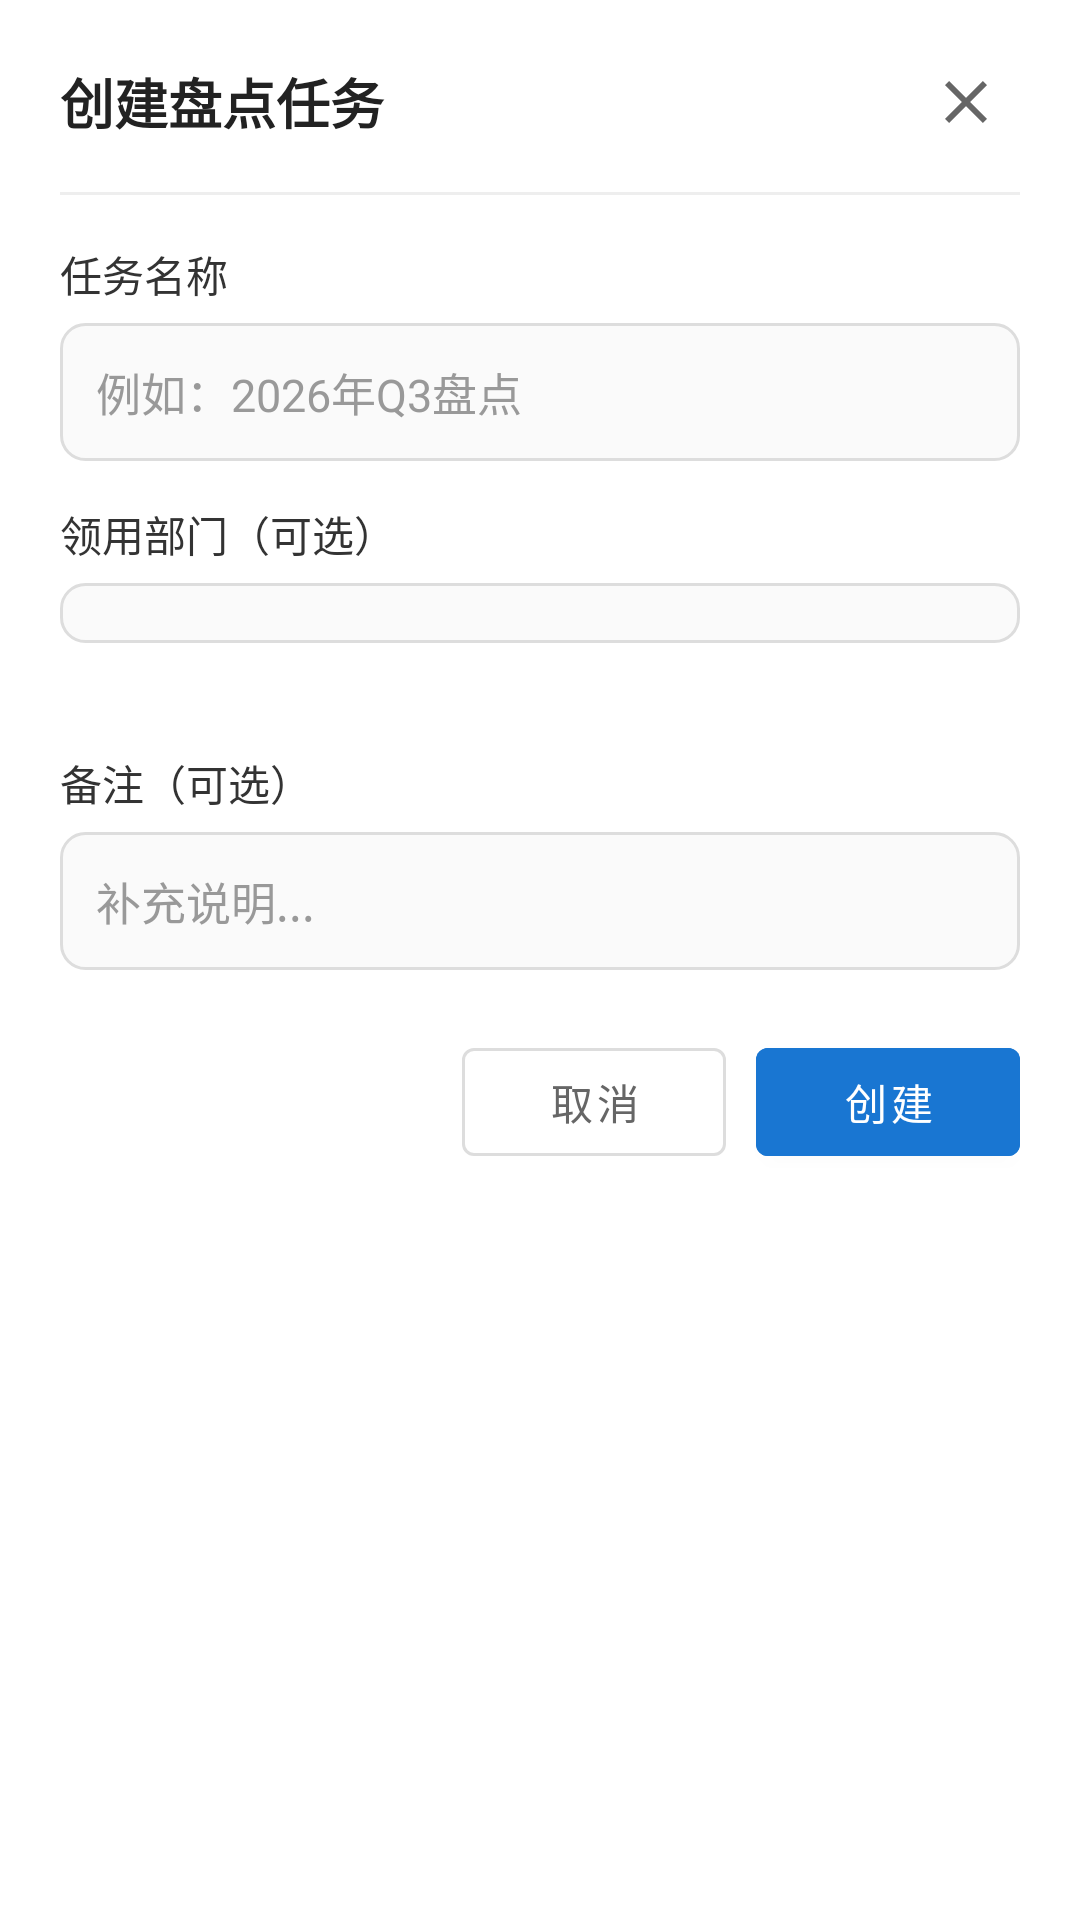

Named icons in this screenshot (1080x1920) and their bounding boxes, [x1,y1,x2,y2]:
取消: [945,81,987,123]
